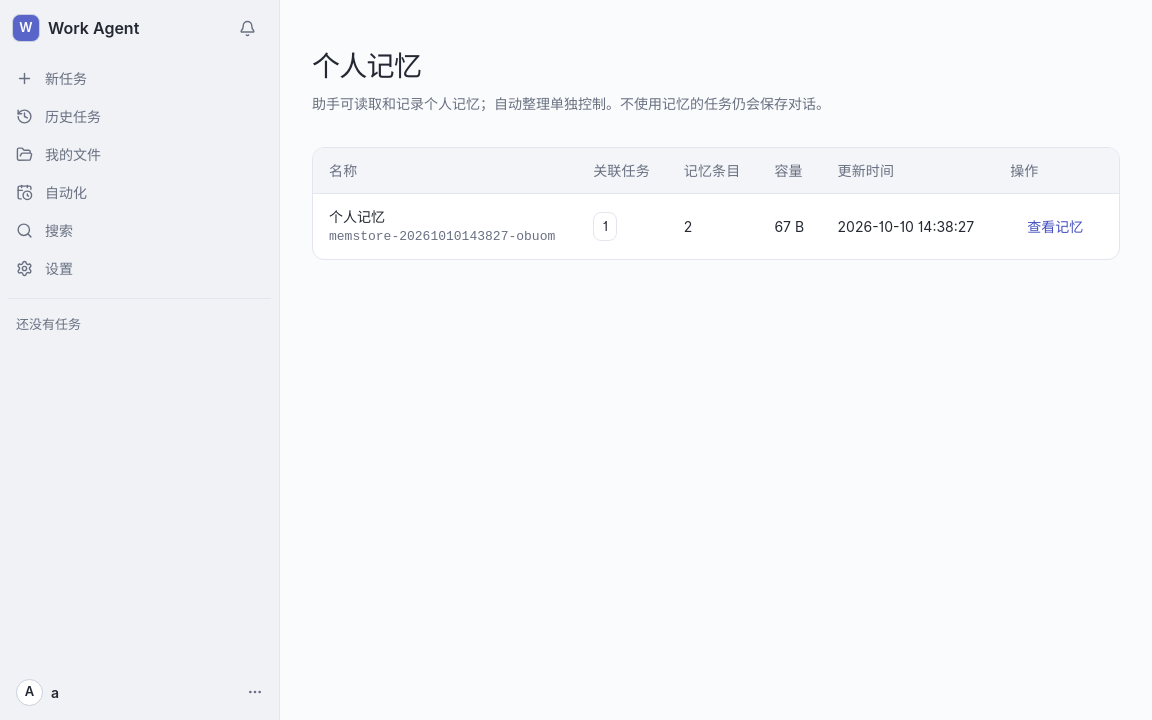
Scenario: MemoryPage › keeps the editor and avoids false success when queued 删除 enters quarantine
Step 1. Click the button "查看记忆" → click(1055, 227), box [1010,207,1100,247]
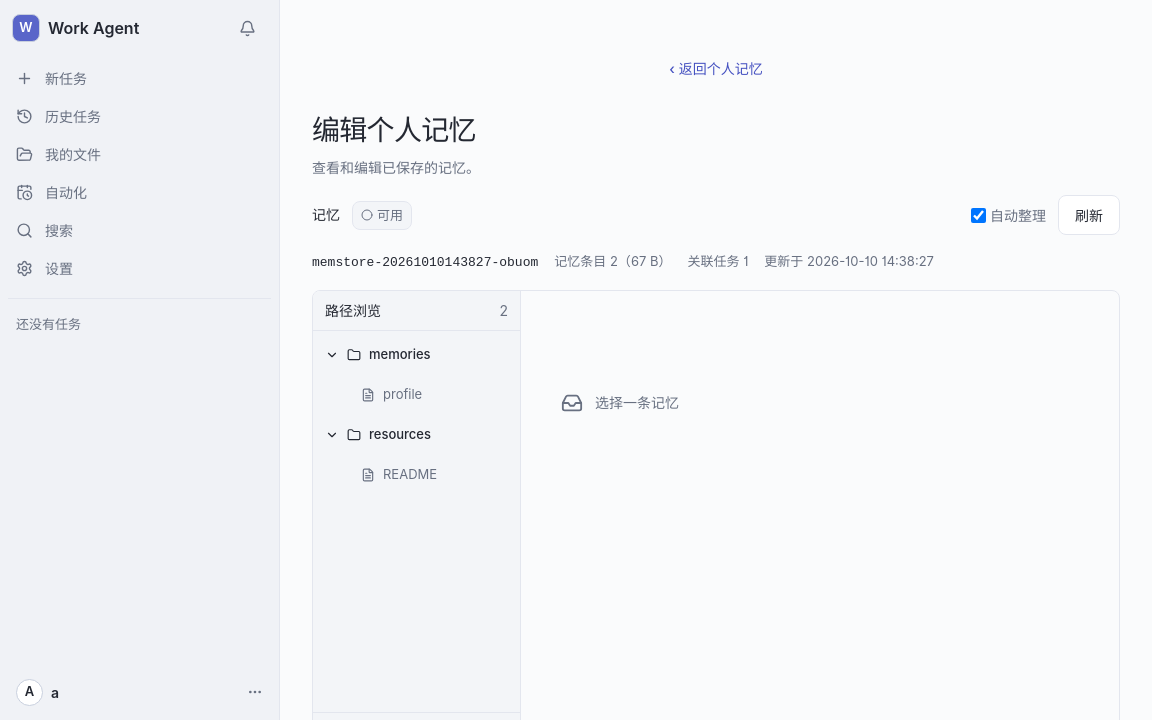
Expected: the text "路径浏览" is shown, [325,299,381,322]
Step 2. Click the button with aria-label "profile.md" → click(416, 395), box [317,375,516,415]
(page scrolled)
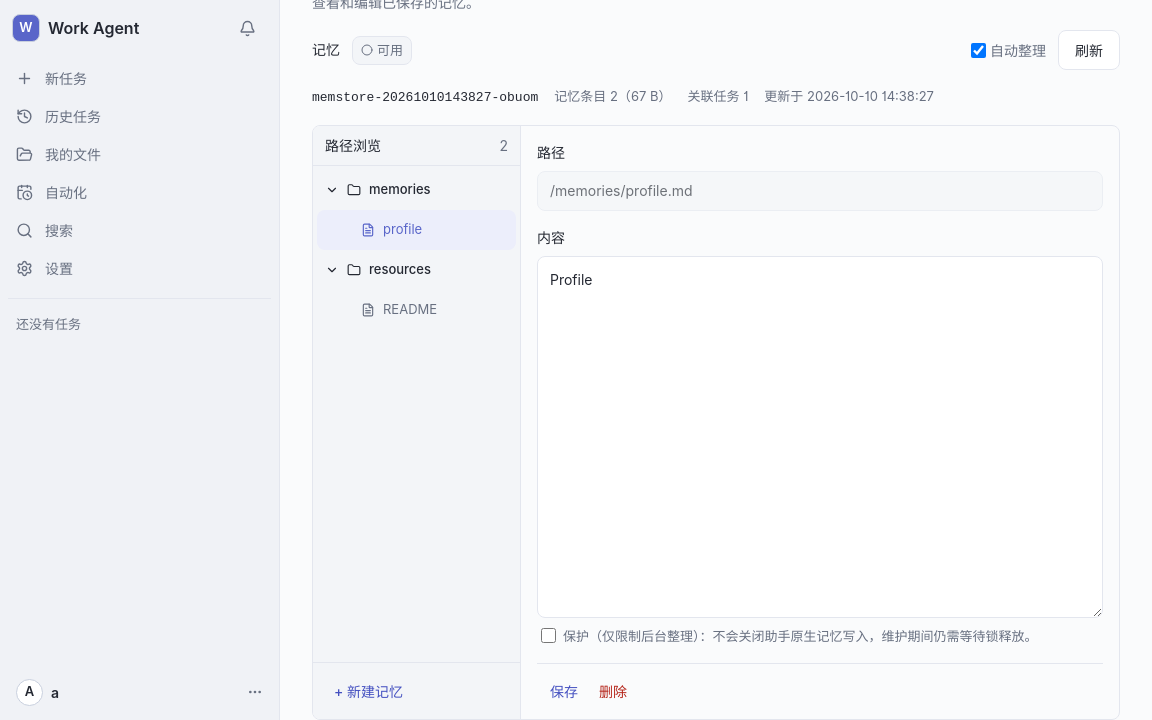
Step 3. Replace the text in the text box labelled "内容" with "Unconfirmed draft" → (820, 437), box [537,256,1103,618]
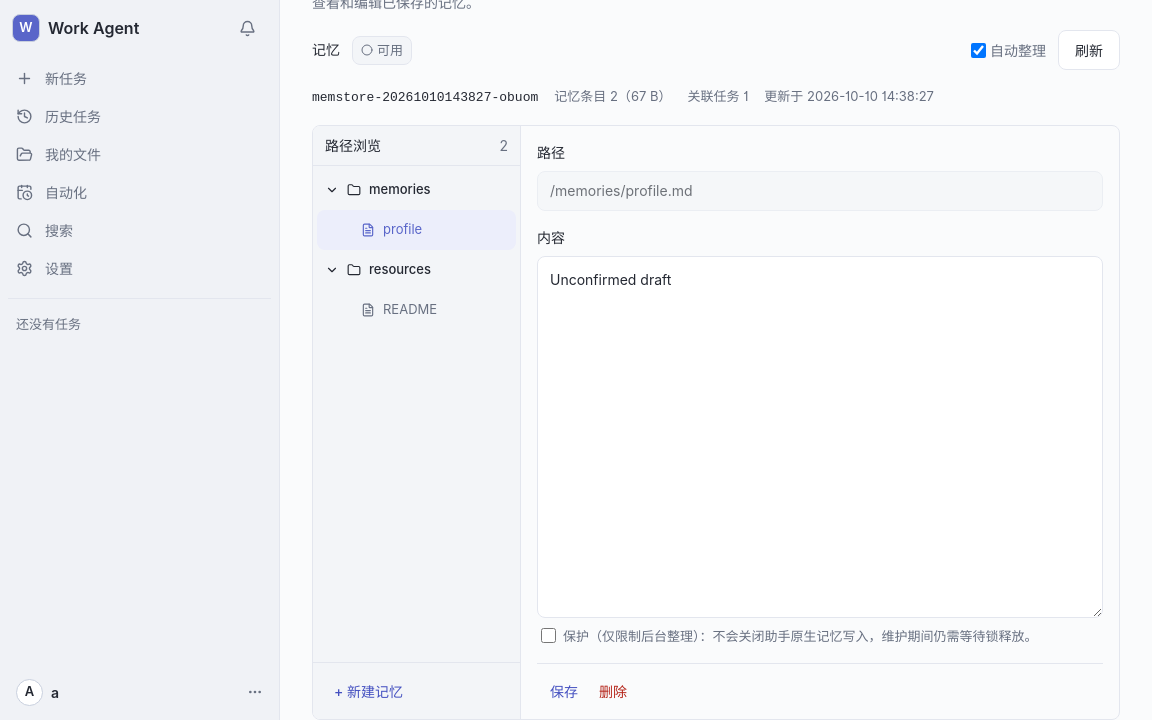
Step 4. Click the button "删除" → click(613, 692), box [591,674,635,710]
Wait 2000 ms
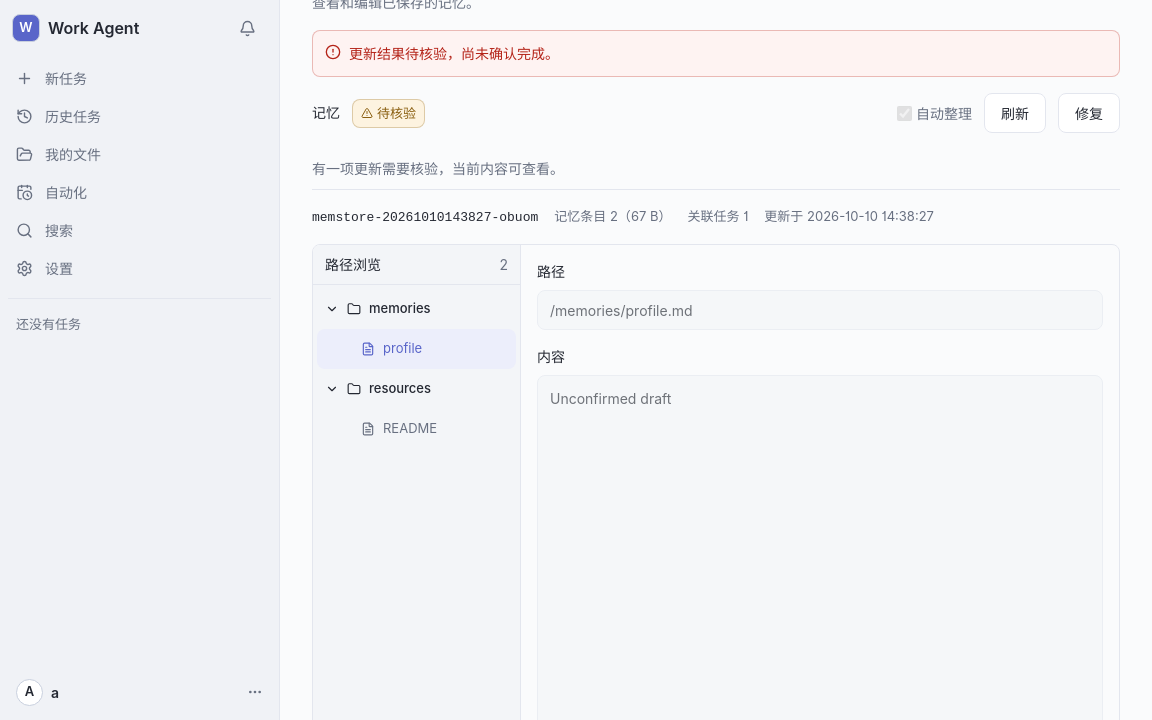
Expected: the text box labelled "内容" is disabled, [537,375,1103,719]
Expected: the text "更新结果待核验，尚未确认完成。" is shown, [349,46,559,62]
Expected: the button "修复" is enabled
Step 5. Click the button "修复" → click(1089, 114), box [1058,94,1120,134]
Wait 2000 ms
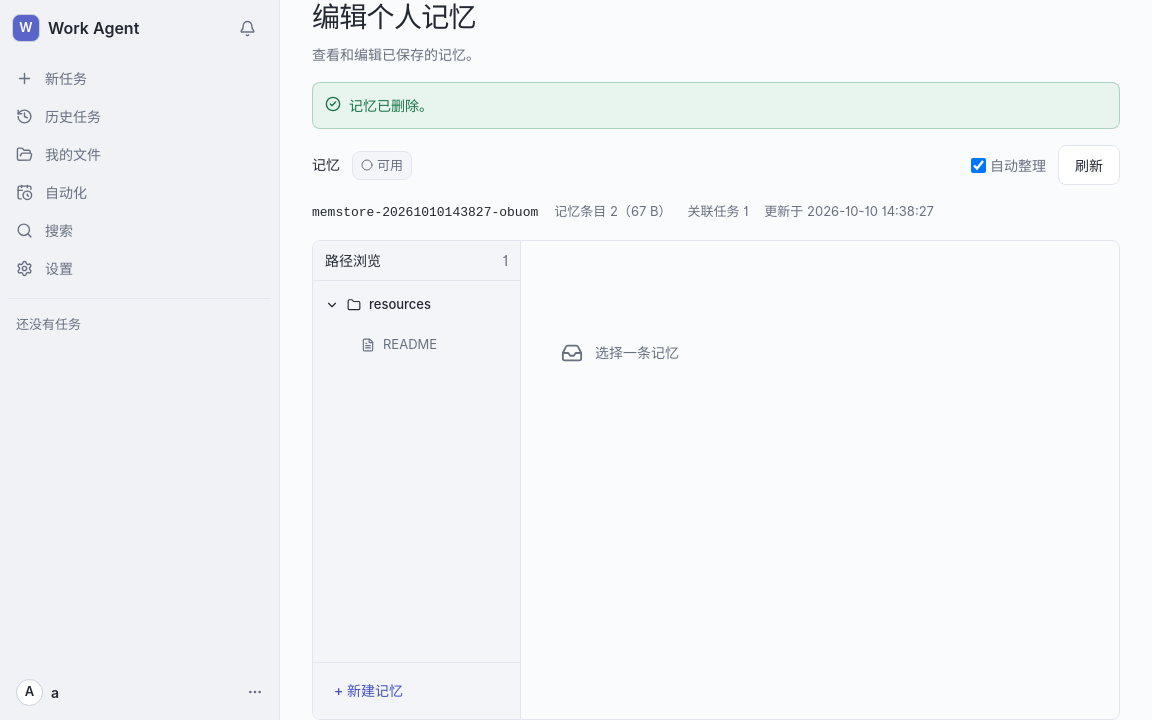
Expected: the text "记忆已删除。" is shown, [349,98,433,114]
Expected: the message labelled "内容" is gone
